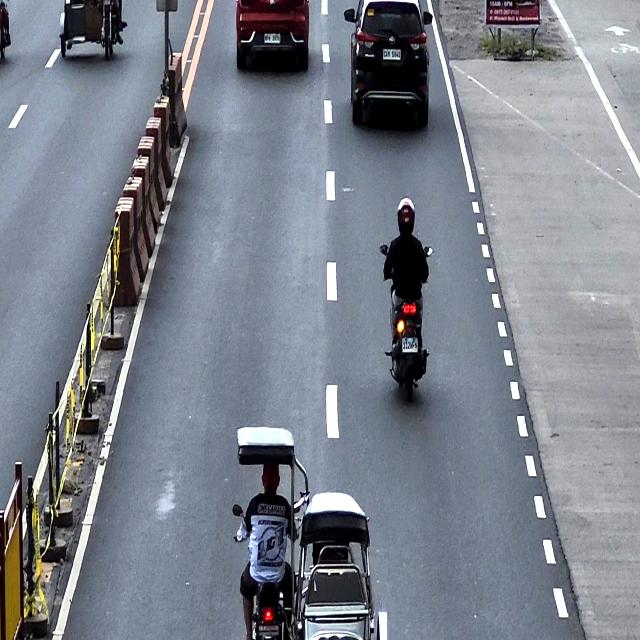Car: (344, 0, 433, 128), (236, 0, 310, 71)
License-Plate: (402, 336, 418, 354), (383, 49, 401, 60), (264, 33, 281, 44)
Motorcycle: (379, 243, 433, 401)
Tricycle: (232, 424, 388, 640), (58, 0, 128, 61)
